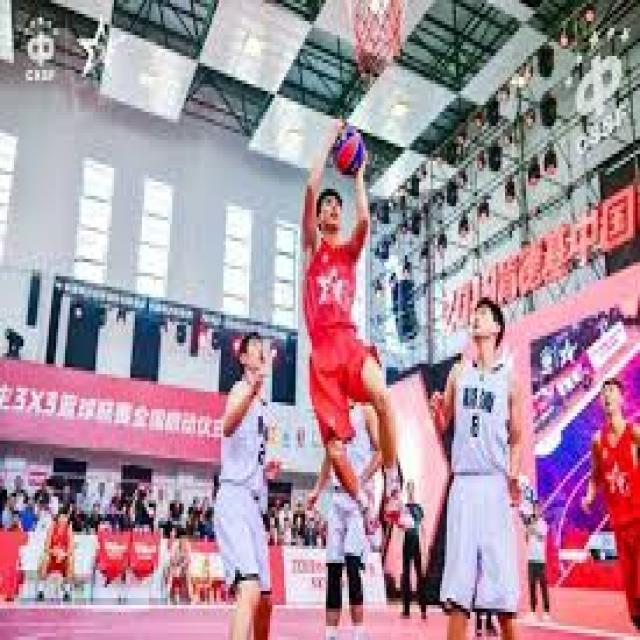rim: (333, 122, 363, 172)
